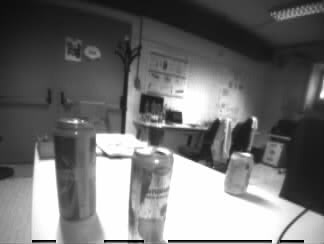Tin can: (53, 119, 96, 219), (130, 146, 172, 242), (225, 151, 251, 194)
